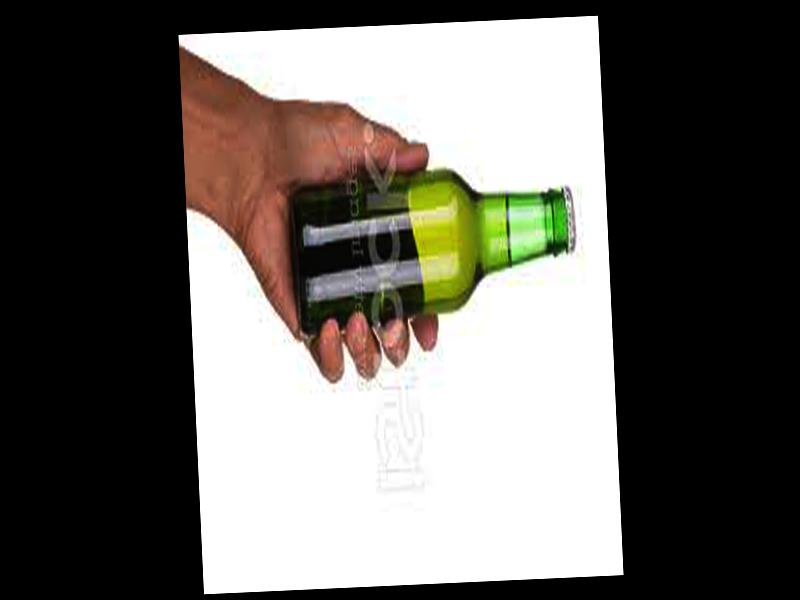Beer: (289, 160, 579, 326)
